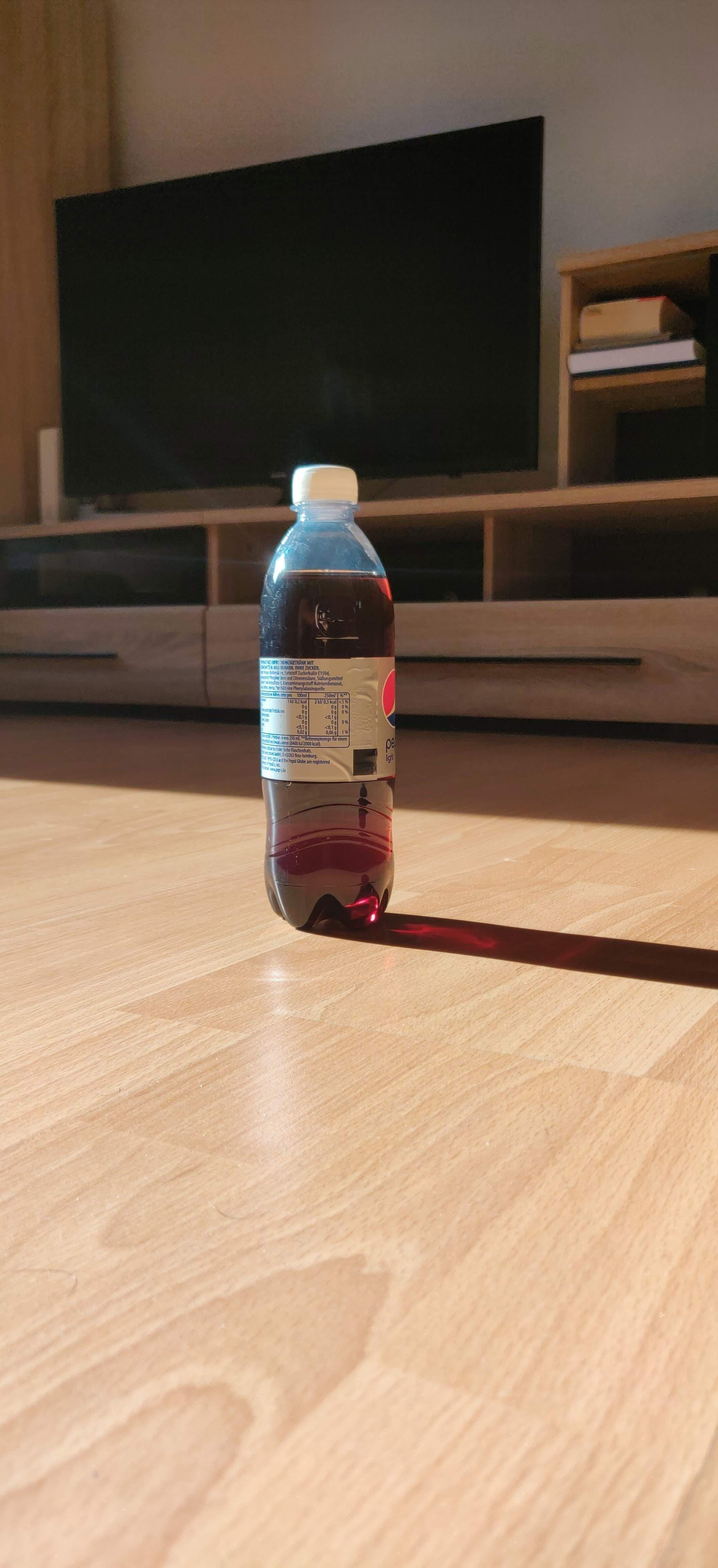bottle-plastic: (253, 460, 401, 934)
